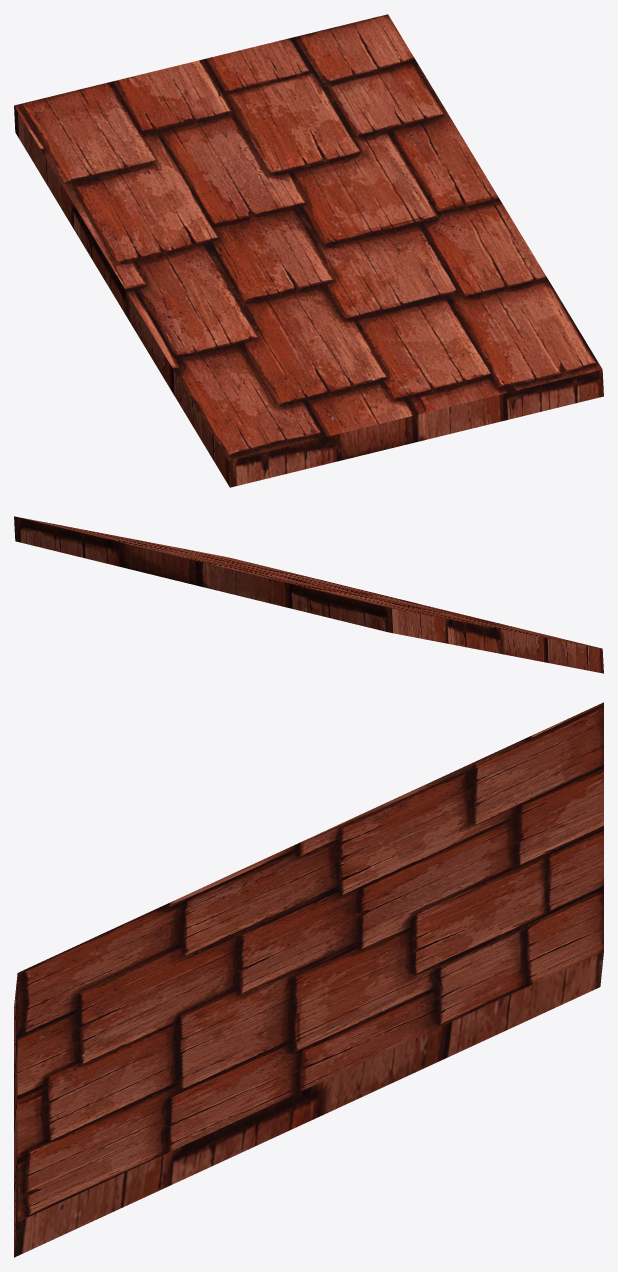
File: tile roofing.glb
3 views of the same model, one above another, from view 1: azimuth 30°, elevation 25°; view 2: azimuth 150°, elevation 25°; view 3: azimuth 270°, elevation 25° (orthographic). The views are drawn at different scales.
Parts seen in each view (by area): view 1: Plane.003; view 2: Plane.003; view 3: Plane.003.
Boxes of the visible parts, x1,y1,x2,y2 form: Plane.003: (14, 14, 603, 487); Plane.003: (14, 516, 603, 673); Plane.003: (14, 702, 603, 1257).
Bounding box in the file's own units: 1 × 0.5726 × 1.
Materials: 1 (1 with a texture image).
